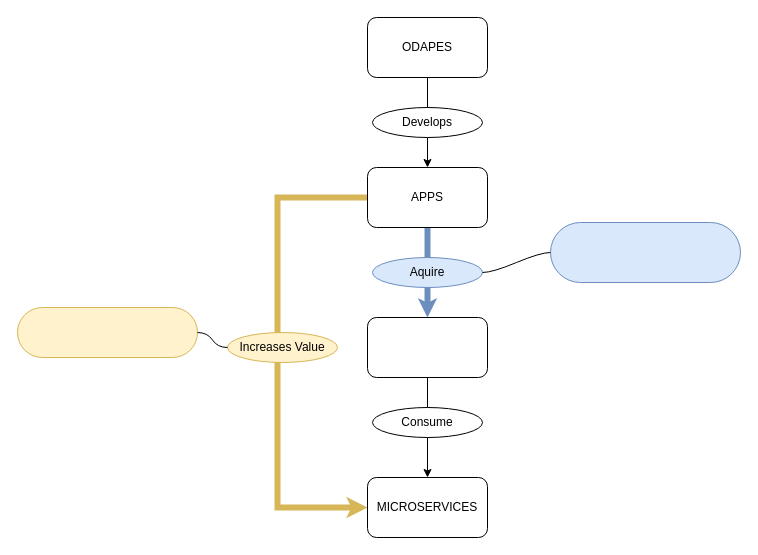
This 758x555 diagram has some shape labels left out. Here are the shapes that lost their labels. From the top down, the centre of each, then its label:
point (645, 252): Multiplier 1 Each (APP) Client acquires new users every month.
point (107, 332): Multiplier 2 Each New App Improves Microservices / price
point (427, 347): USERS
